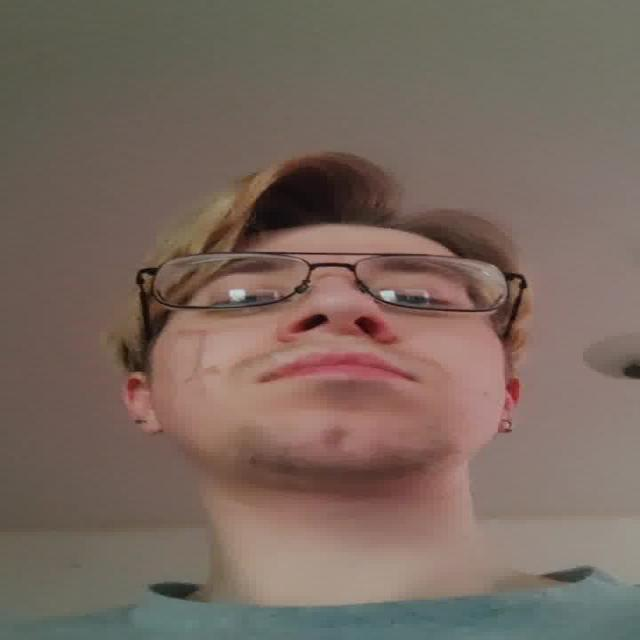earlobe: (133, 414, 169, 436), (492, 417, 516, 436)
eye: (374, 291, 458, 311), (200, 293, 292, 311)
nose: (280, 323, 396, 356)
wholeear: (123, 372, 168, 436), (494, 370, 524, 436)
